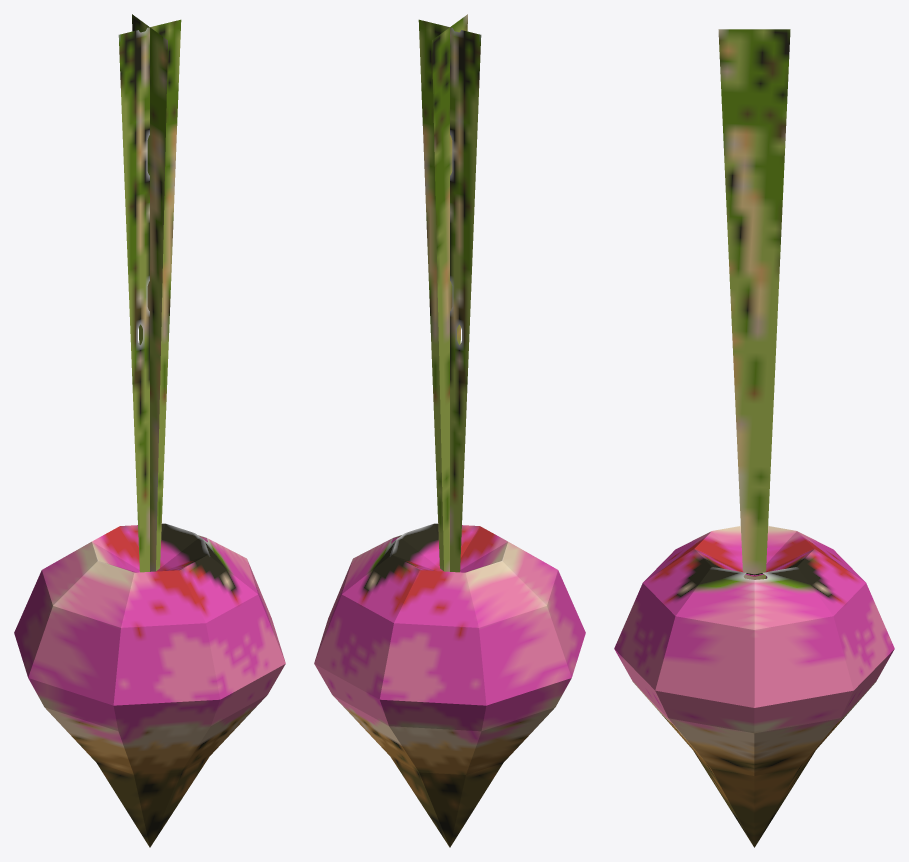
The model's file is SM_Dungeon_Food_Turnip.fbx.
3 renders of one model, left to right at view 1: azimuth 30°, elevation 25°; view 2: azimuth 150°, elevation 25°; view 3: azimuth 270°, elevation 25°, orthographic.
Parts seen in each view (by area): view 1: SM_Dungeon_Food_Turnip; view 2: SM_Dungeon_Food_Turnip; view 3: SM_Dungeon_Food_Turnip.
Boxes of the visible parts, x1,y1,x2,y2 form: SM_Dungeon_Food_Turnip: (14, 14, 285, 847); SM_Dungeon_Food_Turnip: (314, 14, 585, 847); SM_Dungeon_Food_Turnip: (614, 29, 894, 847).
Size of the model in its own units: 18.82 by 60.57 by 18.82.
